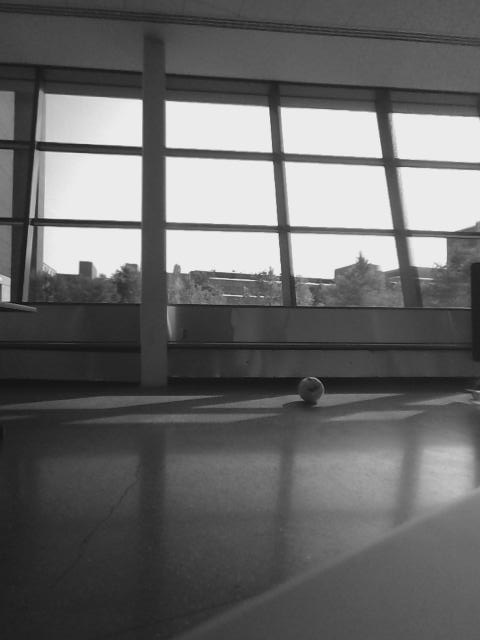ball: (296, 374, 327, 406)
